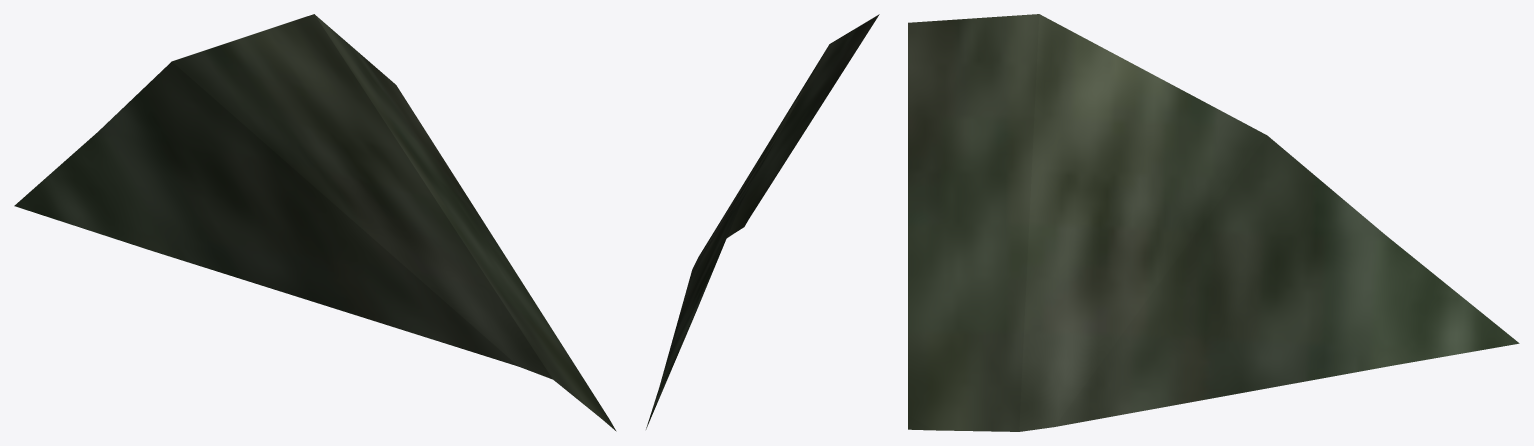
3 renders of one model, left to right at view 1: azimuth 30°, elevation 25°; view 2: azimuth 150°, elevation 25°; view 3: azimuth 270°, elevation 25°, orthographic. The views are drawn at different scales.
Size of the model in its own units: 0.353 by 0.6136 by 1.03.
Materials: 1 (1 with a texture image).
